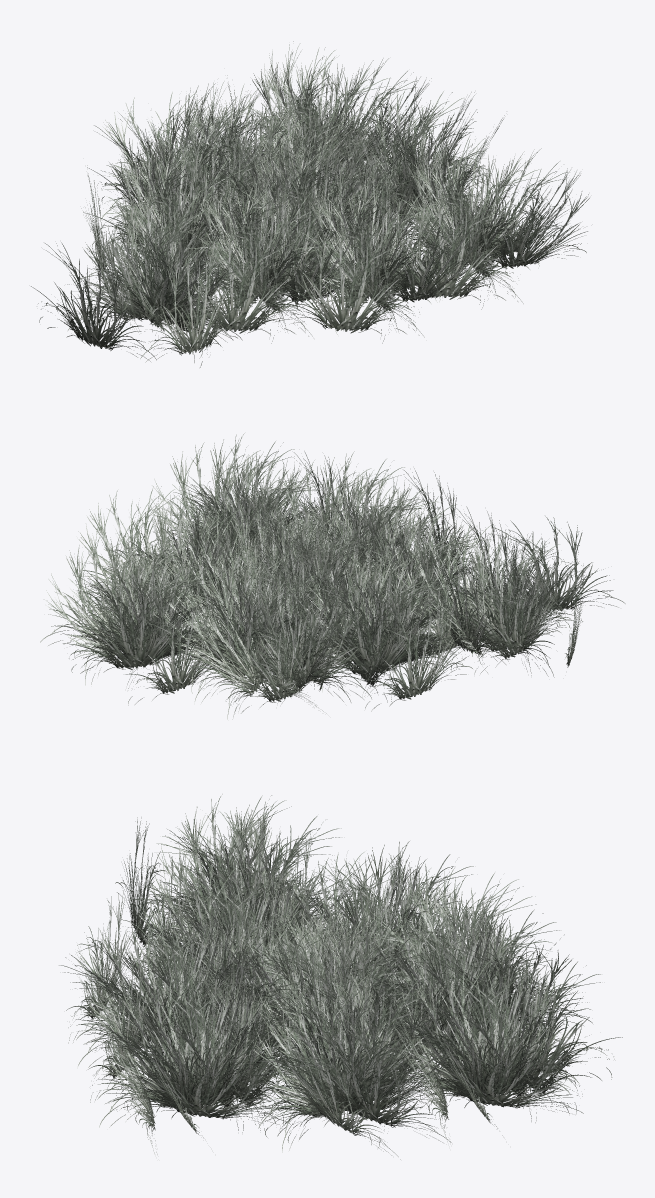
The model's file is GrassCluster.fbx.
The picture shows the model from 3 angles, top to bottom: view 1: azimuth 30°, elevation 25°; view 2: azimuth 150°, elevation 25°; view 3: azimuth 270°, elevation 25°; orthographic projection. The views are drawn at different scales.
Visible parts, largest first — view 1: GrassClusterHigh; view 2: GrassClusterHigh; view 3: GrassClusterHigh.
Boxes of the visible parts, left/top/right/bottom form: GrassClusterHigh: left=31, top=41, right=589, bottom=367; GrassClusterHigh: left=40, top=433, right=625, bottom=719; GrassClusterHigh: left=59, top=794, right=622, bottom=1159.
Bounding box in the file's own units: 1.11 × 0.3412 × 0.9878.
